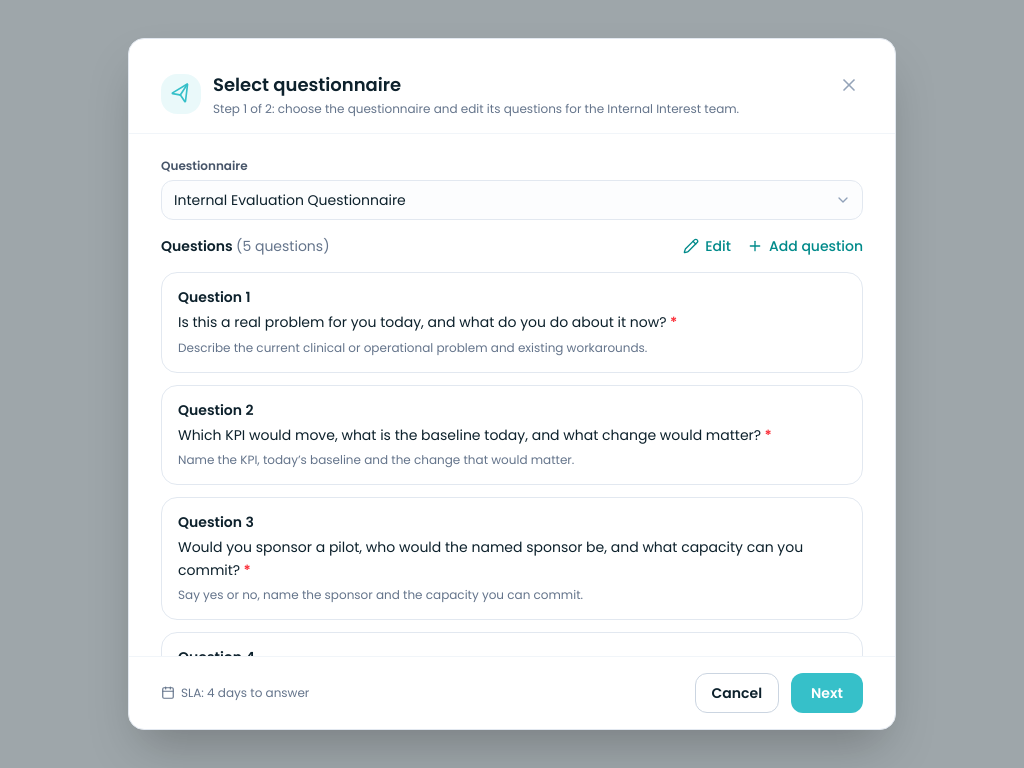
SendInternalModal › swaps to the reviewers once the questions are set, with no note
Click the button "Next" at (827, 693), box [791,673,863,713]
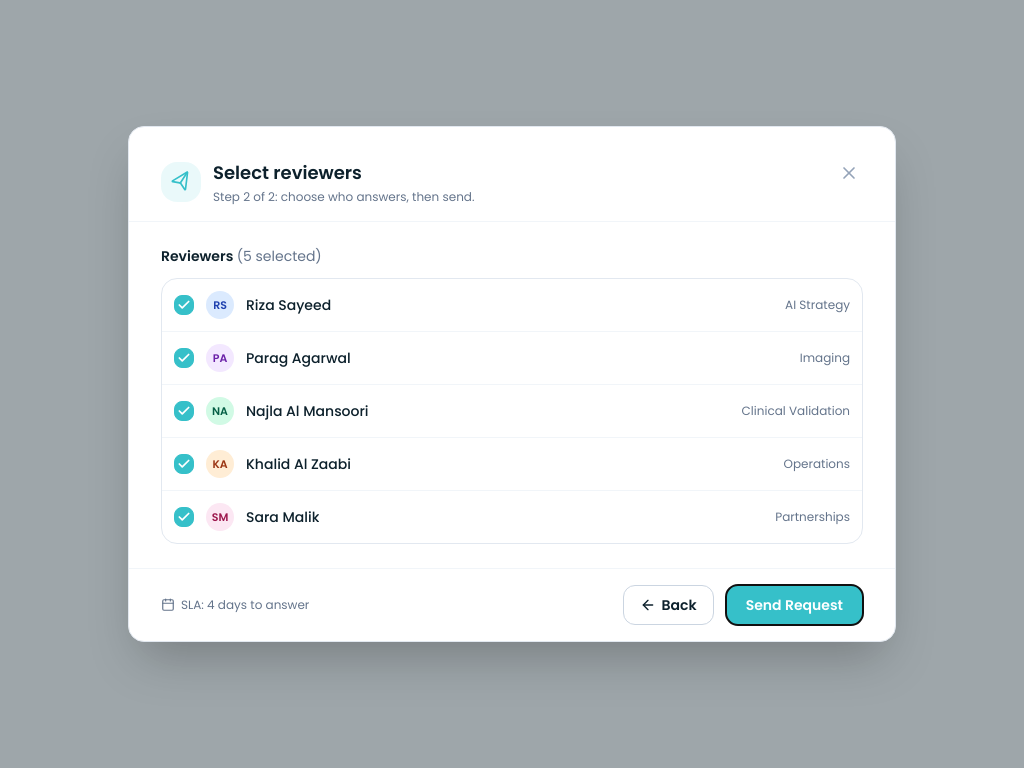
Result: the text "Step 2 of 2: choose who answers, then send." is shown at [213,189,474,205]
Result: the text "(5 selected)" is shown at [237,246,322,266]
Result: the heading labelled "questionnaire" is gone
Click the button "Back" at (668, 605), box [623,585,714,625]
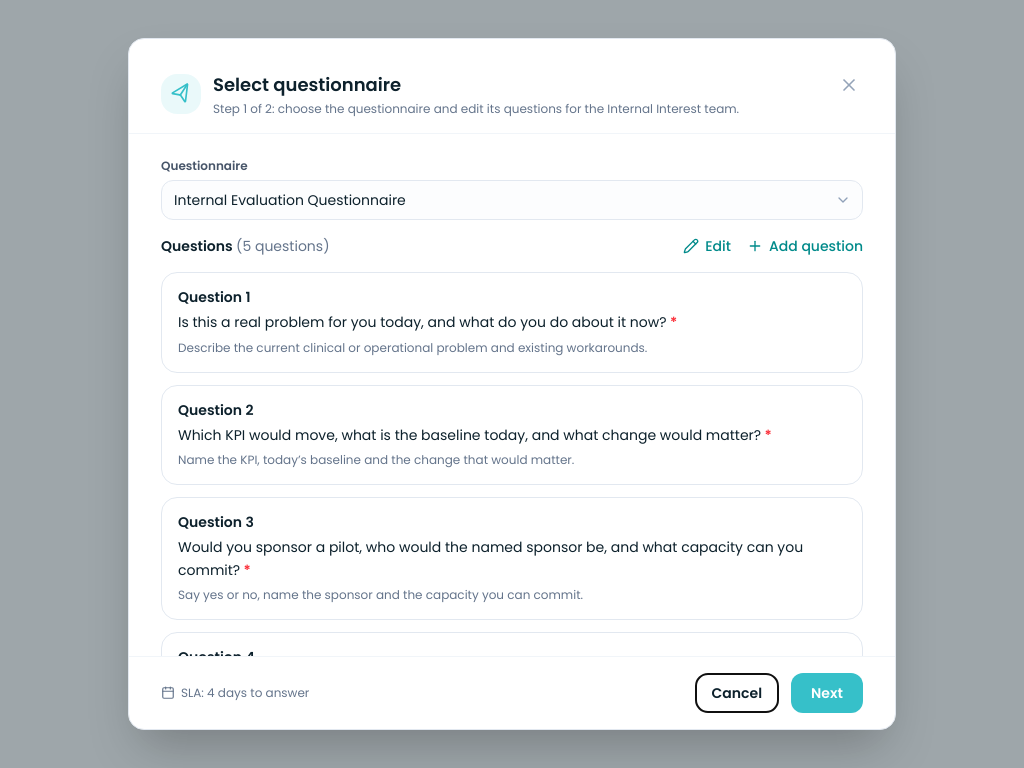
Result: the dropdown labelled "Questionnaire" is shown at [161,180,863,220]
